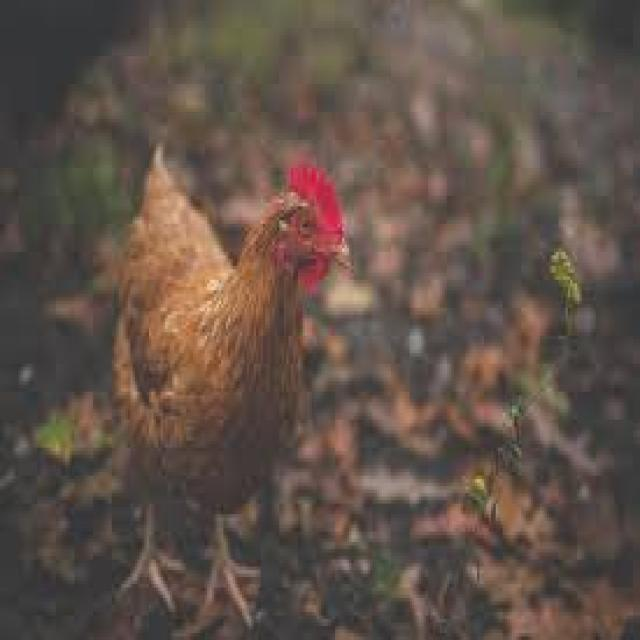Chicken: (111, 129, 347, 617)
